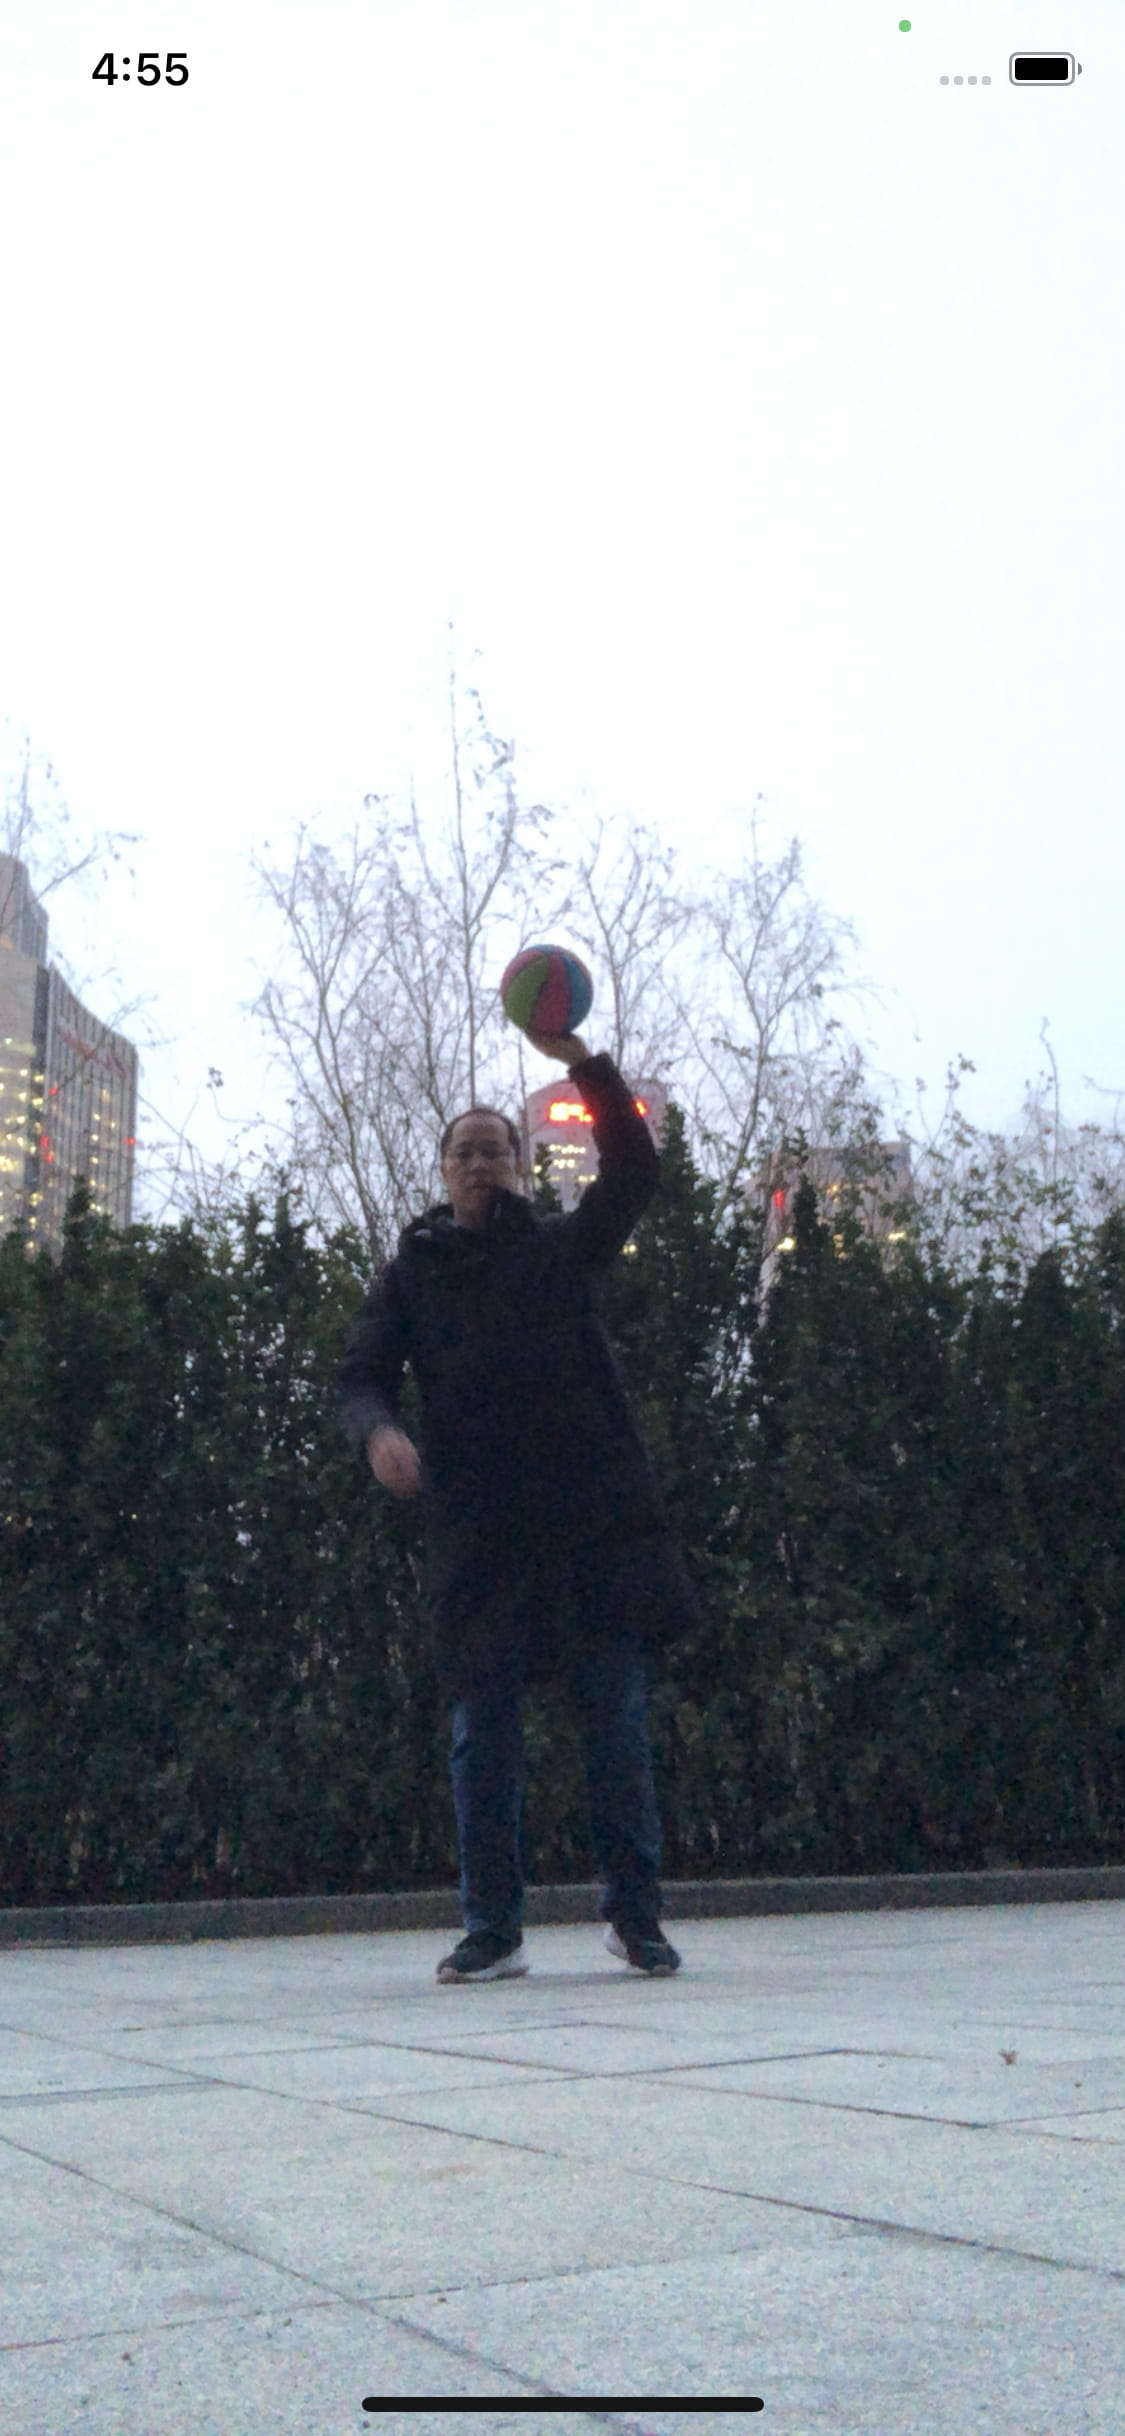ball: (500, 945, 597, 1038)
